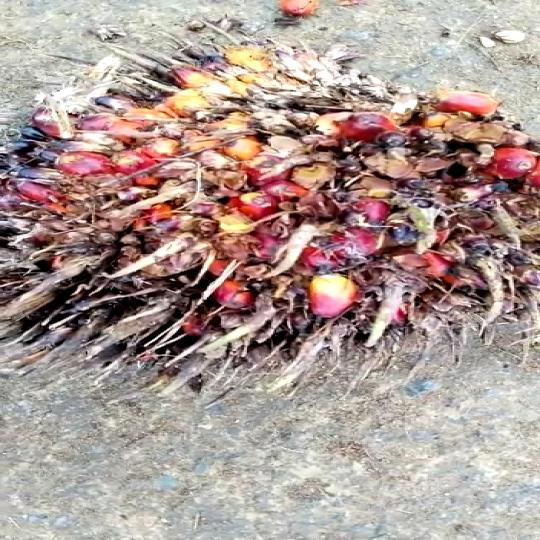terlalu masak: (0, 40, 540, 379)
